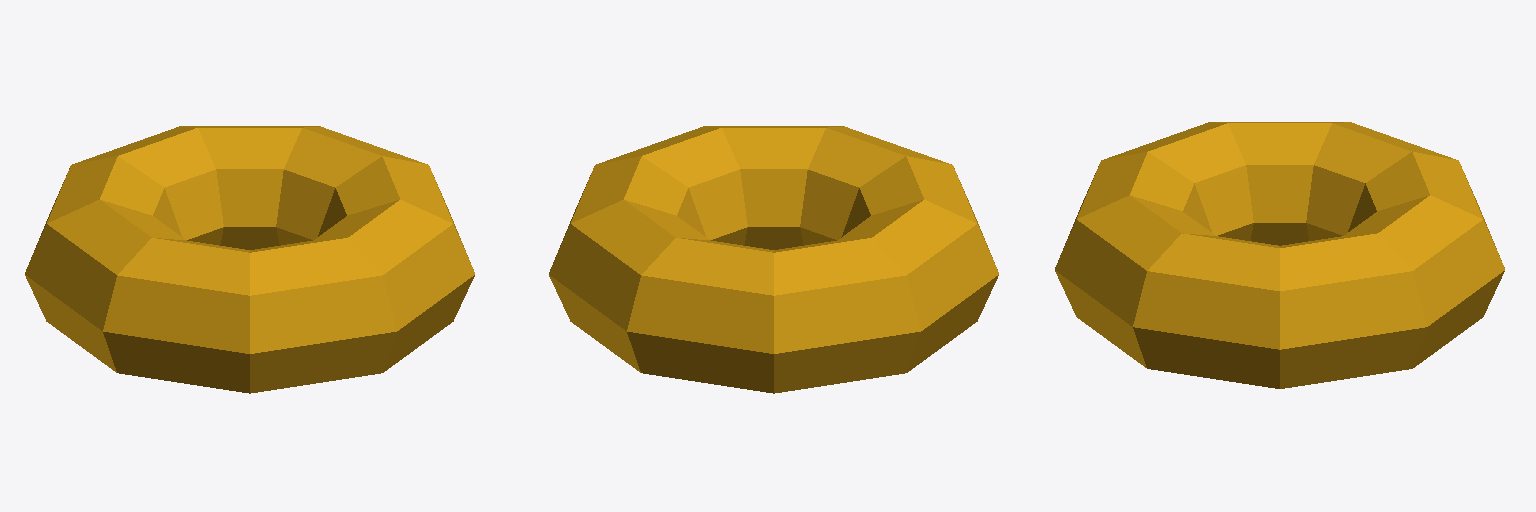
The picture shows the model from 3 angles: view 1: azimuth 30°, elevation 25°; view 2: azimuth 150°, elevation 25°; view 3: azimuth 270°, elevation 25°; orthographic projection.
Parts seen in each view (by area): view 1: pTorus1; view 2: pTorus1; view 3: pTorus1.
Part boxes in pixels (x1,y1,x2,y2): pTorus1: (25,126,474,393); pTorus1: (549,126,998,393); pTorus1: (1055,122,1504,388).
Size of the model in its own units: 0.291 by 0.1 by 0.2954.
Materials: 1 (1 with a texture image).